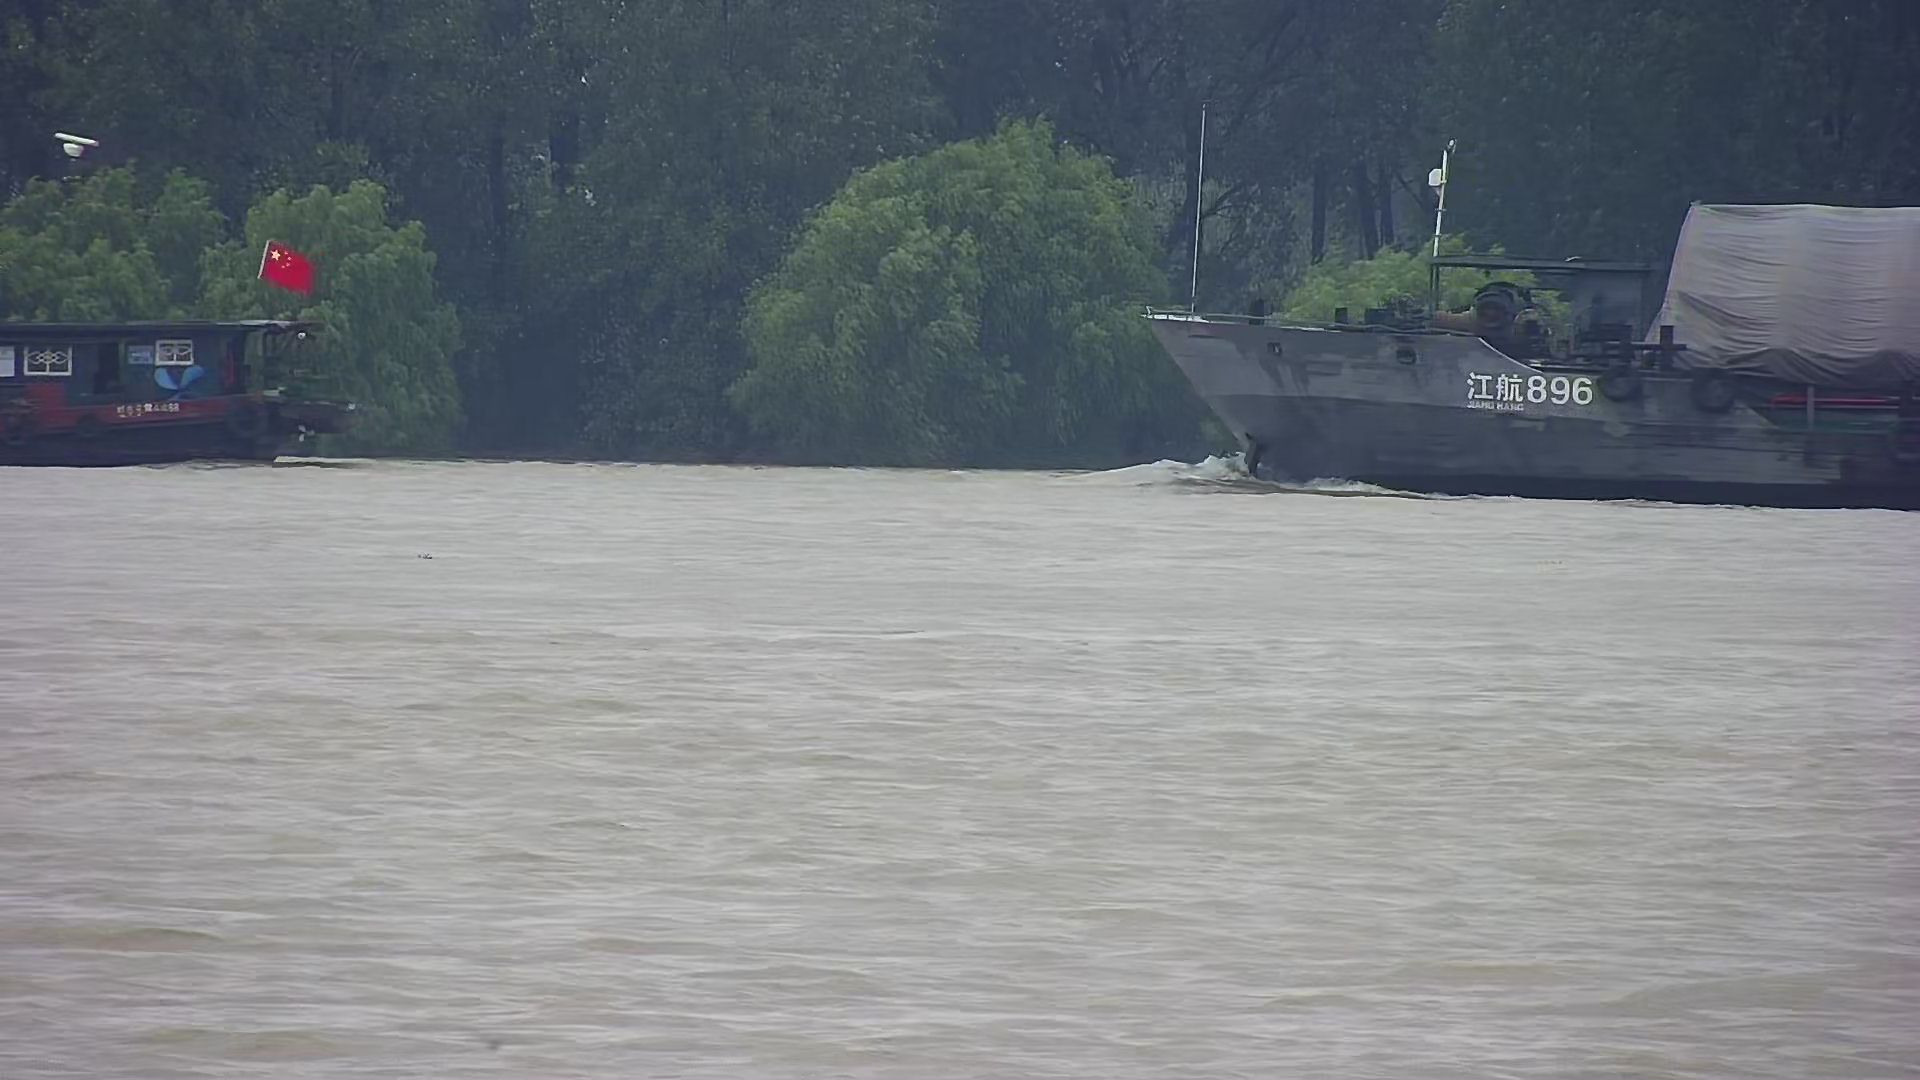ship: (1116, 96, 1920, 525), (1, 227, 363, 483)
